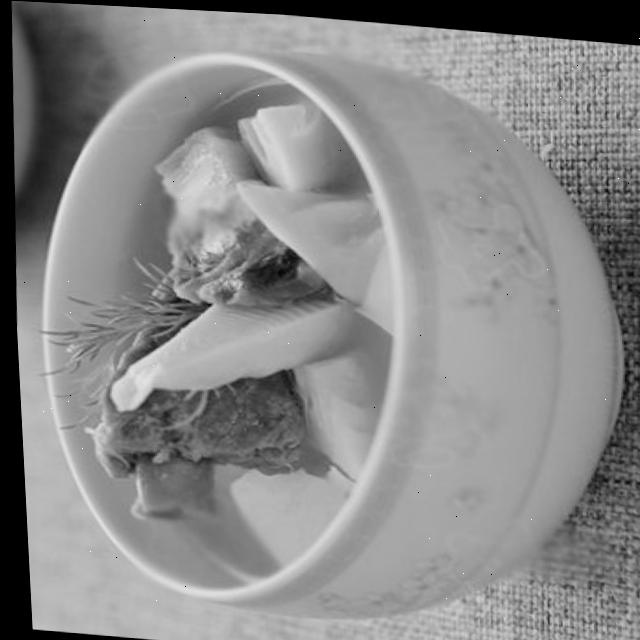汤锅炖物: (12, 10, 640, 640)
